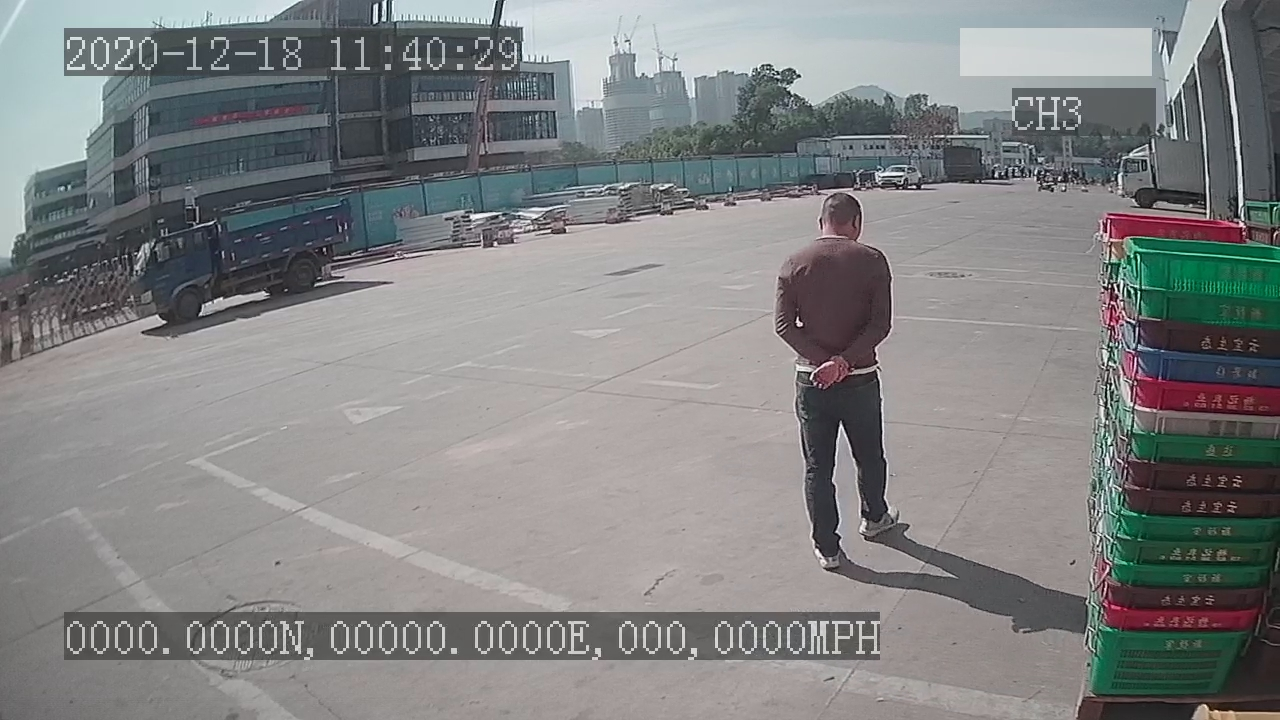person: (769, 191, 907, 574)
